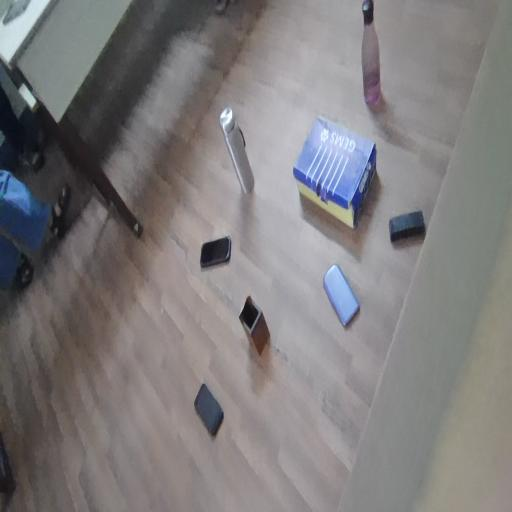Bottle: (353, 0, 394, 113)
